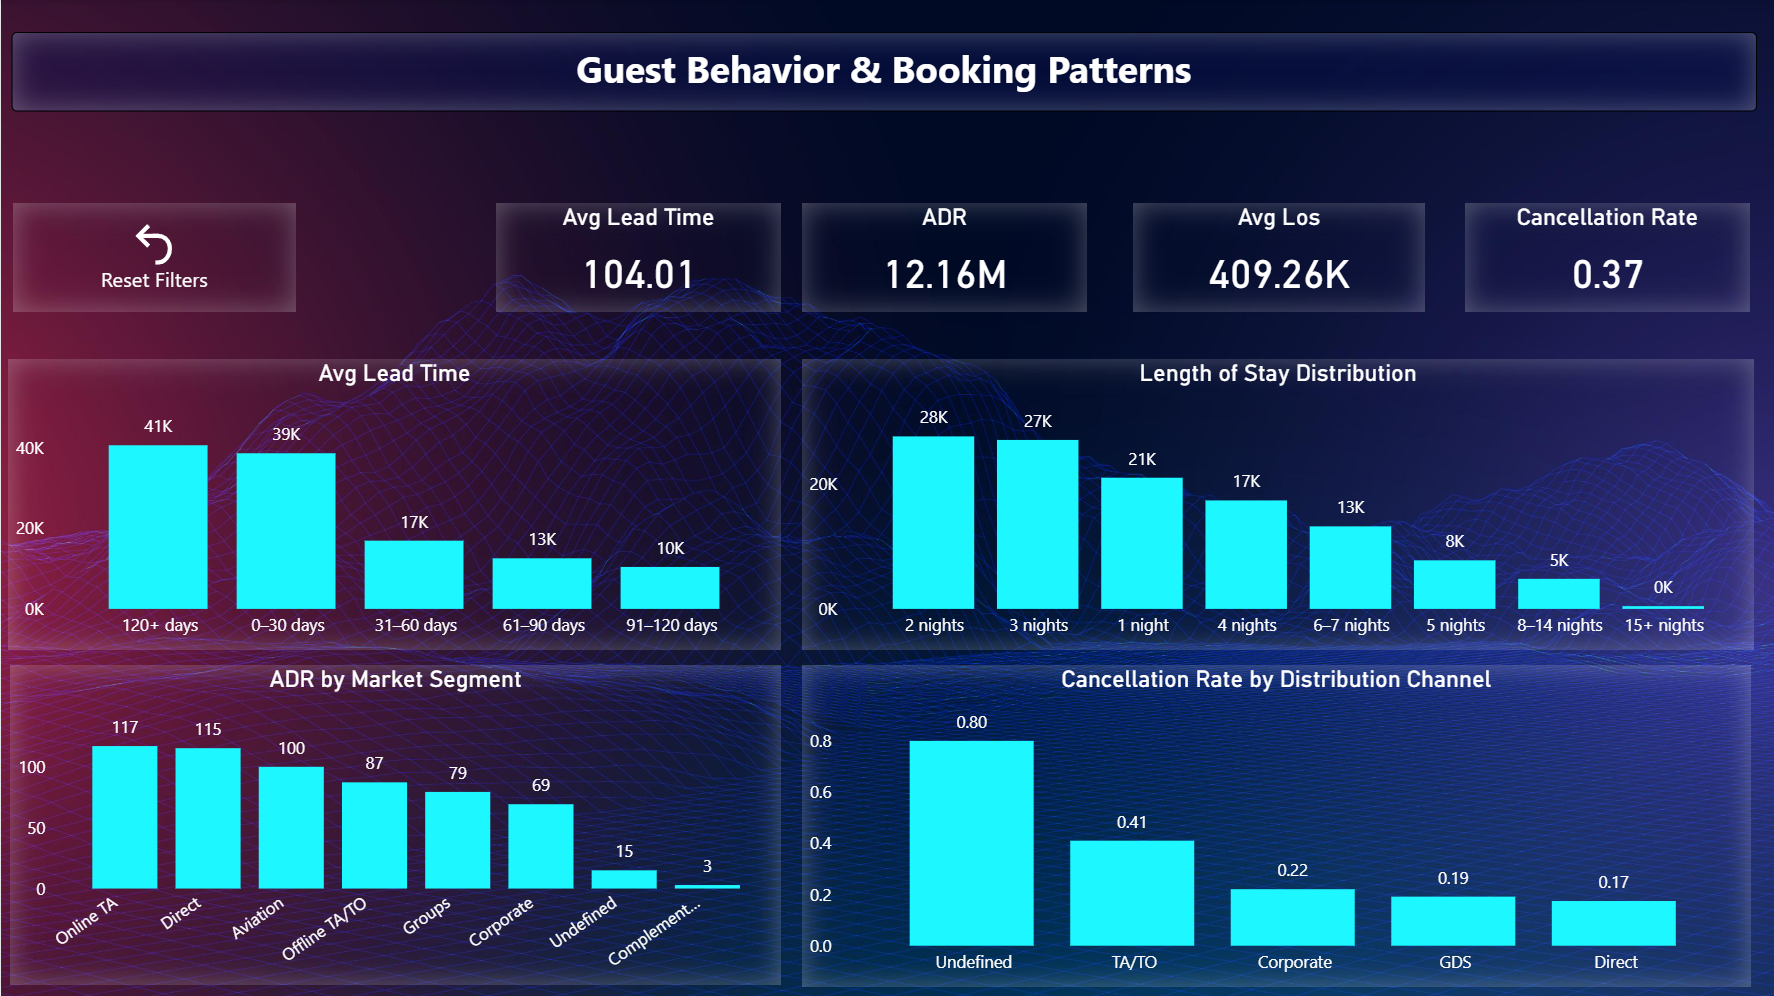

The dashboard page shown, as its layout file describes it:
{"tool":"powerbi","page":{"name":"Guest behavior","canvas":[1280,720],"ordinal":1},"visuals":[{"type":"card","title":"Avg Lead Time","fields":{"Values":["Fact_Bookings.Avg Lead Time"]},"box":[356.9,147.1,205.4,78.7],"z":0},{"type":"card","title":"Avg Los","fields":{"Values":["Sum(Fact_Bookings.Avg LOS)"]},"box":[815.8,147.1,209.8,78.7],"z":1000},{"type":"card","title":"Cancellation Rate","fields":{"Values":["Fact_Bookings.Cancellation Rate"]},"box":[1054.7,147.1,205.4,78.7],"z":2000},{"type":"card","title":"ADR","fields":{"Values":["Sum(Fact_Bookings.adr)"]},"box":[576.9,147.1,205.4,78.7],"z":3000},{"type":"columnChart","title":"Avg Lead Time","fields":{"Y":["CountNonNull(Fact_Bookings.lead_time)"],"Category":["Fact_Bookings.Lead Time Group"]},"box":[5.8,259.3,556.5,209.8],"z":4000},{"type":"columnChart","title":"Length of Stay Distribution","fields":{"Y":["Fact_Bookings.Total Bookings"],"Category":["Fact_Bookings.LOS Group"]},"box":[576.9,259.3,686.1,209.8],"z":5000},{"type":"textbox","box":[8,24.1,1258,57.3],"z":6000},{"type":"clusteredColumnChart","title":"ADR by Market Segment","fields":{"Category":["Fact_Bookings.market_segment"],"Y":["Fact_Bookings.ADR Measure"]},"box":[6,479.7,555.8,230.8],"z":7000},{"type":"clusteredColumnChart","title":"Cancellation Rate by Distribution Channel","fields":{"Category":["Fact_Bookings.distribution_channel"],"Y":["Fact_Bookings.Cancellation Rate Measure"]},"box":[577.6,479.7,683.9,232],"z":8000},{"type":"actionButton","box":[8.7,147.1,203.9,78.7],"z":8001}]}

Visuals, with their boxes in screenshot pixels (x1, y1, x2, y2), scaled from the page's 1280x720 canvas onto the 1774x996 screenshot:
"Avg Lead Time" card: [495,203,779,312]
"Avg Los" card: [1131,203,1421,312]
"Cancellation Rate" card: [1462,203,1746,312]
"ADR" card: [800,203,1084,312]
"Avg Lead Time" columnChart: [8,359,779,649]
"Length of Stay Distribution" columnChart: [800,359,1750,649]
textbox: [11,33,1755,113]
"ADR by Market Segment" clusteredColumnChart: [8,664,779,983]
"Cancellation Rate by Distribution Channel" clusteredColumnChart: [801,664,1748,985]
actionButton: [12,203,295,312]
